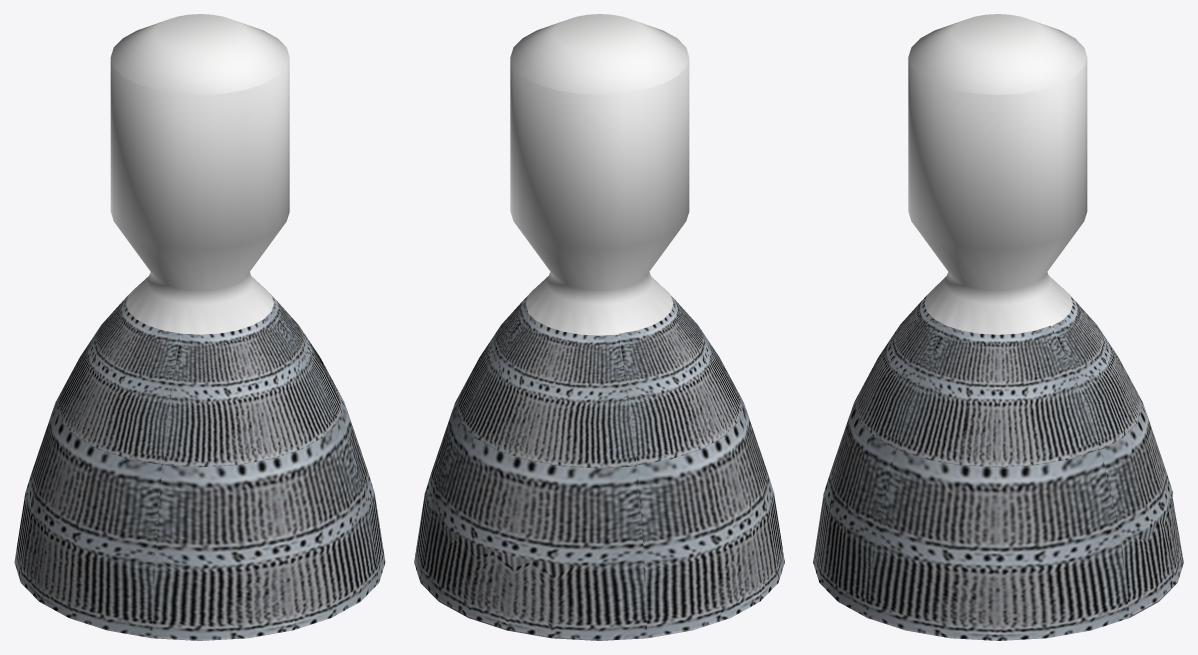
The model's file is LR_87_3579_Chamber.obj.
The picture shows the model from 3 angles, left to right: view 1: azimuth 30°, elevation 25°; view 2: azimuth 150°, elevation 25°; view 3: azimuth 270°, elevation 25°; orthographic projection.
Parts seen in each view (by area): view 1: Cylinder2; view 2: Cylinder2; view 3: Cylinder2.
Boxes of the visible parts, x1,y1,x2,y2 form: Cylinder2: (14, 14, 385, 640); Cylinder2: (414, 14, 784, 640); Cylinder2: (813, 14, 1183, 640).
Bounding box in the file's own units: 1.27 × 1.99 × 1.27.
